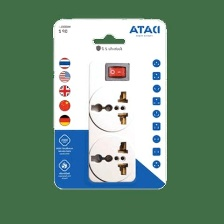book: (49, 16, 172, 191)
three_eye_plug: (87, 54, 139, 183)
